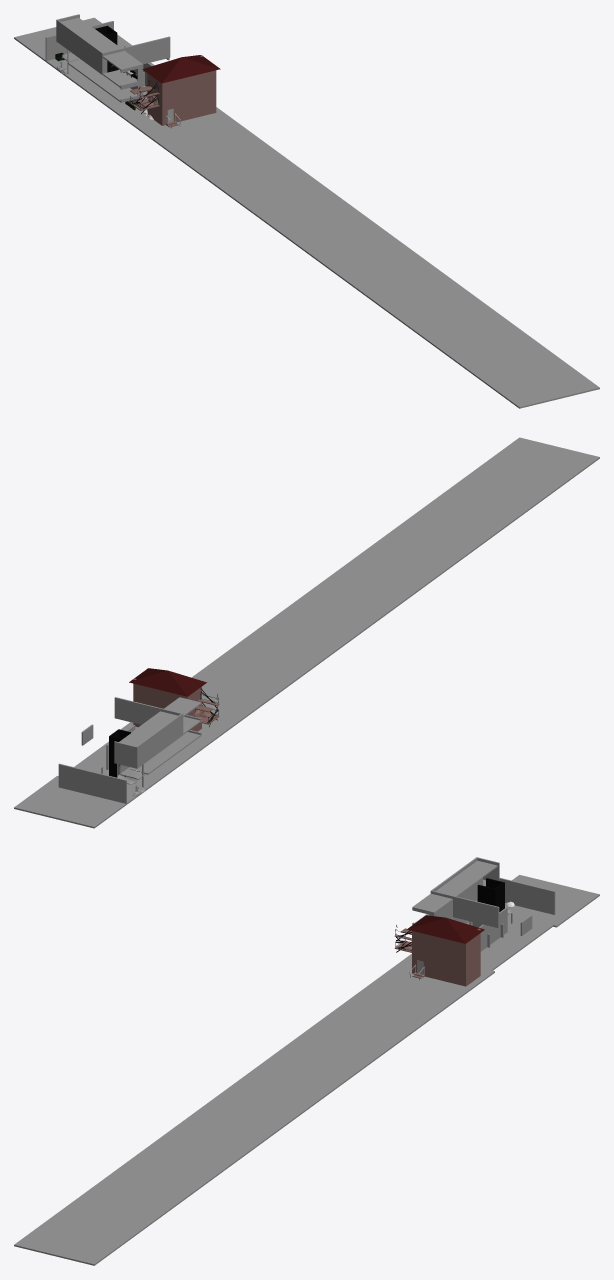
Rendered from allLab.fbx.
The picture shows the model from 3 angles, top to bottom: view 1: azimuth 30°, elevation 25°; view 2: azimuth 150°, elevation 25°; view 3: azimuth 330°, elevation 25°; orthographic projection.
Parts seen in each view (by area): view 1: chao2, Box036, edificio3, Box032, Box024, Box026, Box030, chao, Box016, Box039; view 2: chao2, Box026, Box027, edificio3, Box024, Box032, Box030, chao, Box016, Box038, Box012, Box047; view 3: chao2, Box036, Box026, Box012, Box032, Box027, edificio3, Box030, Box037, Box031, Box013.
Boxes of the visible parts, bbox=[...] form: chao2: bbox=[119, 107, 599, 408]; Box036: bbox=[164, 70, 216, 125]; edificio3: bbox=[142, 55, 220, 83]; Box032: bbox=[61, 17, 141, 70]; Box024: bbox=[56, 19, 103, 74]; Box026: bbox=[14, 17, 132, 69]; Box030: bbox=[103, 36, 170, 73]; chao: bbox=[57, 65, 138, 116]; Box016: bbox=[67, 59, 138, 102]; Box039: bbox=[147, 73, 163, 125]; chao2: bbox=[121, 437, 599, 750]; Box026: bbox=[14, 776, 137, 828]; Box027: bbox=[58, 763, 126, 803]; edificio3: bbox=[129, 668, 206, 696]; Box024: bbox=[136, 713, 183, 768]; Box032: bbox=[119, 697, 201, 746]; Box030: bbox=[114, 697, 181, 724]; chao: bbox=[127, 747, 201, 796]; Box016: bbox=[128, 732, 201, 774]; Box038: bbox=[133, 678, 185, 727]; Box012: bbox=[74, 730, 125, 775]; Box047: bbox=[114, 741, 136, 768]; chao2: bbox=[14, 954, 494, 1265]; Box036: bbox=[413, 931, 466, 986]; Box026: bbox=[505, 875, 599, 927]; Box012: bbox=[480, 914, 552, 971]; Box032: bbox=[412, 860, 497, 913]; Box027: bbox=[499, 878, 555, 914]; edificio3: bbox=[407, 915, 484, 943]; Box030: bbox=[432, 891, 499, 928]; Box037: bbox=[466, 933, 480, 985]; Box031: bbox=[433, 876, 482, 918]; Box013: bbox=[479, 907, 507, 951].
Bounding box in the file's own units: 361 × 3861 × 251.
